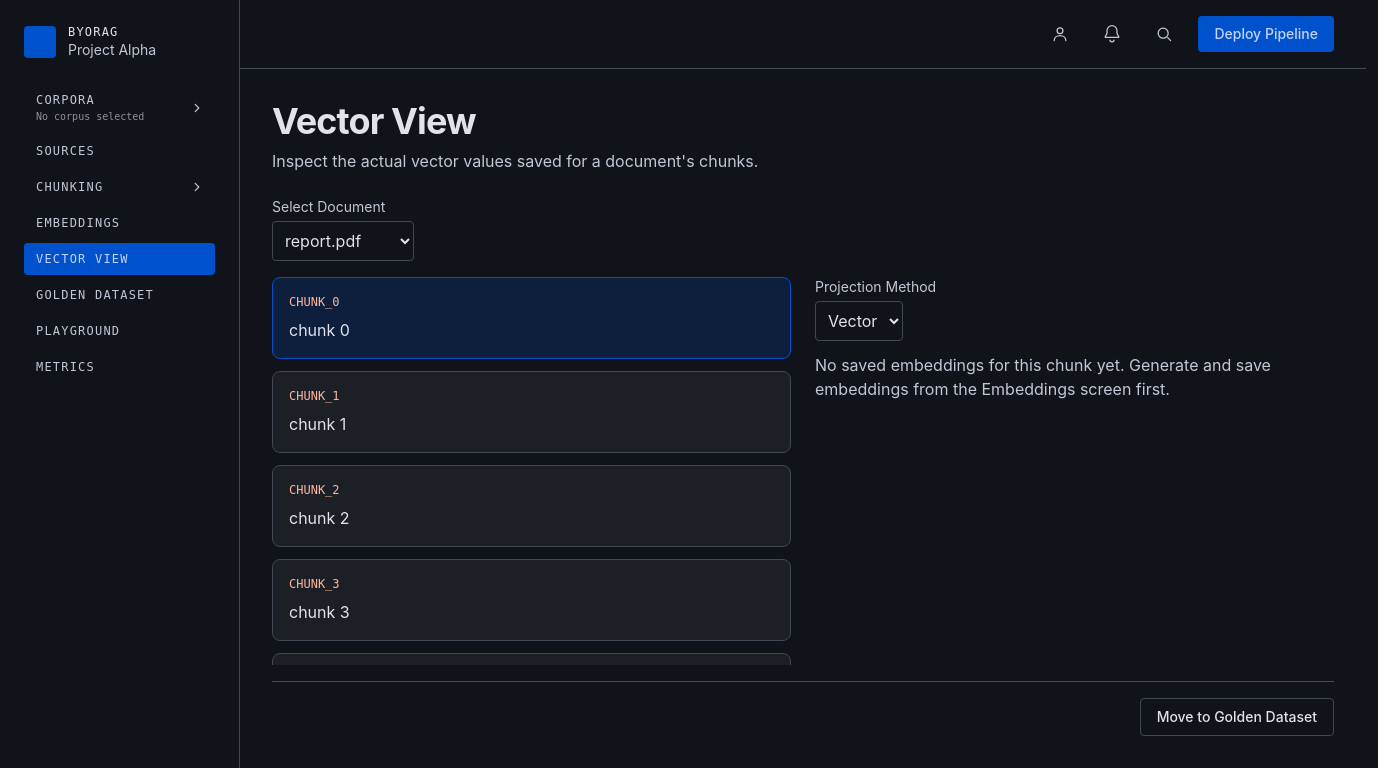
it: VectorViewScreen — UMAP/PCA embedding projection (021-sources-chunking-embeddings-refresh US4) › renders the projection view once 5+ embedded chunks resolve for the selected document
Select "UMAP" in the dropdown labelled "Projection Method" at (859, 321), box [815,301,903,341]
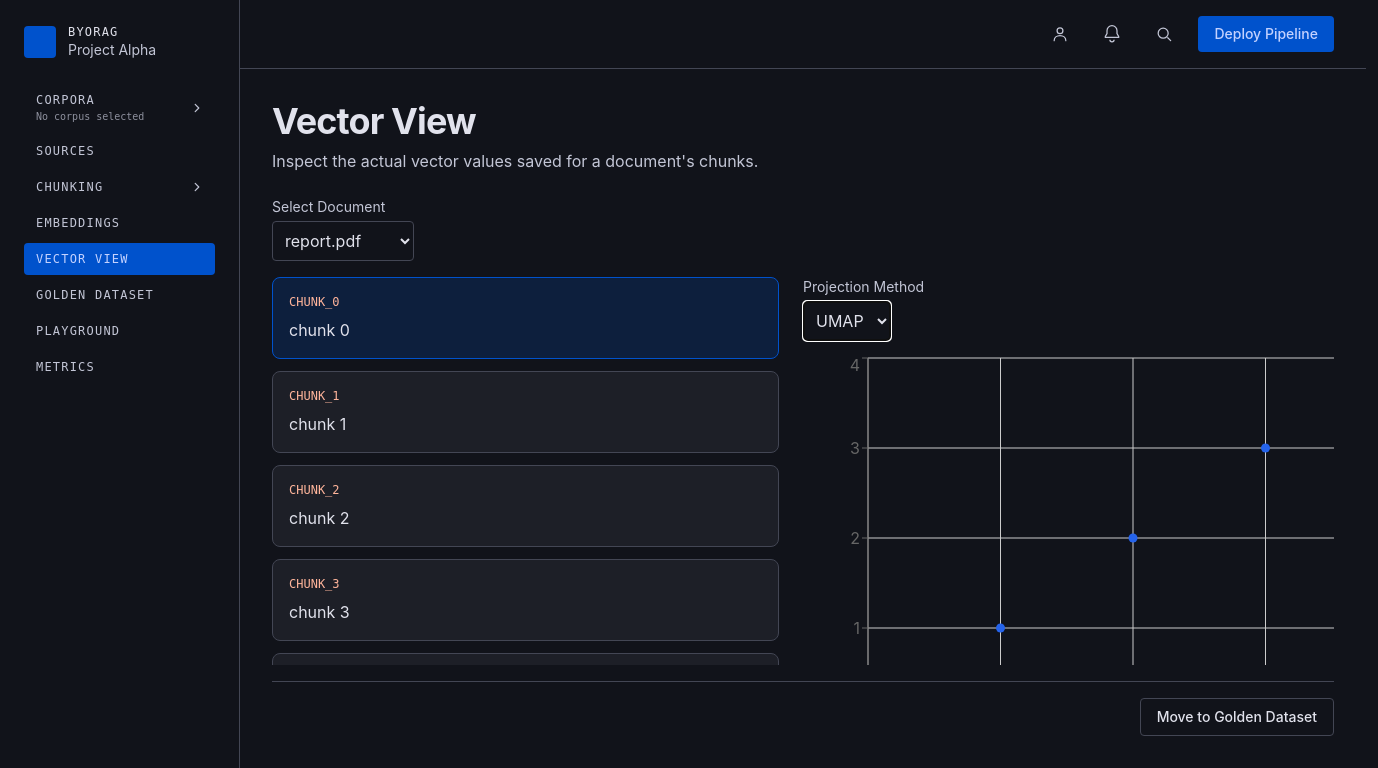
Check: the element with test id "embedding-projection-view" is shown, box [803,353,1334,665]
